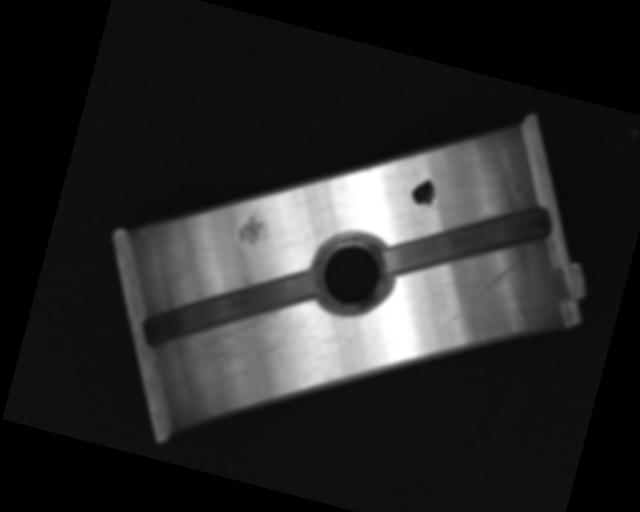blot: (408, 175, 440, 209)
bruise: (234, 205, 270, 249)
gap: (139, 232, 321, 383), (380, 171, 554, 308)
hole: (307, 225, 398, 325)
nick: (447, 247, 517, 338)
scratch: (162, 285, 308, 415)
